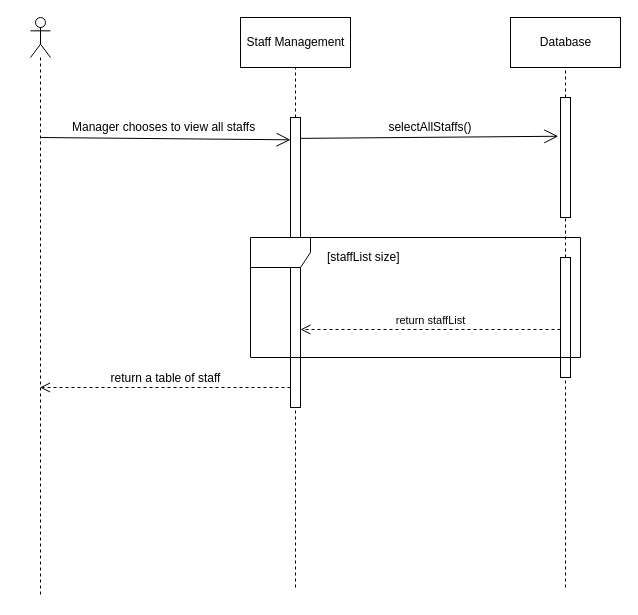
Some shapes in this 638 by 615 pixel diagram are drawn without their labels. The shapes that lost their labels are listed below. From the top down, each one's box as (x1, y1, x2, y2) in pixels, then its label:
(30, 16, 50, 598): Manager
(250, 236, 580, 358): loop
